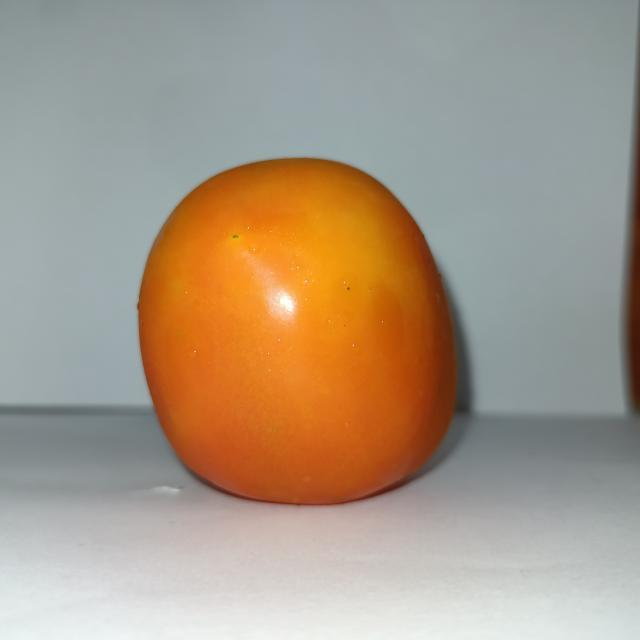Red: (135, 154, 459, 506)
